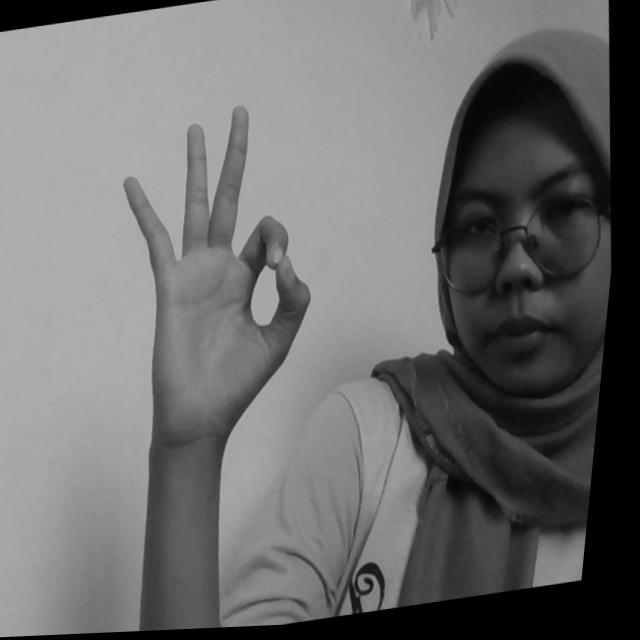F: (101, 95, 347, 450)
